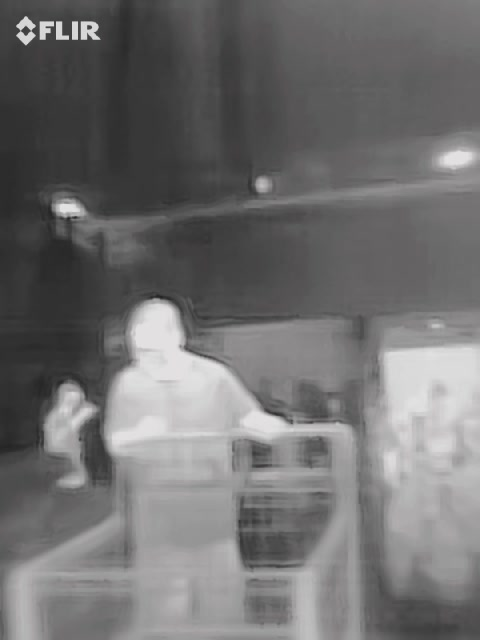head: (127, 297, 185, 366)
